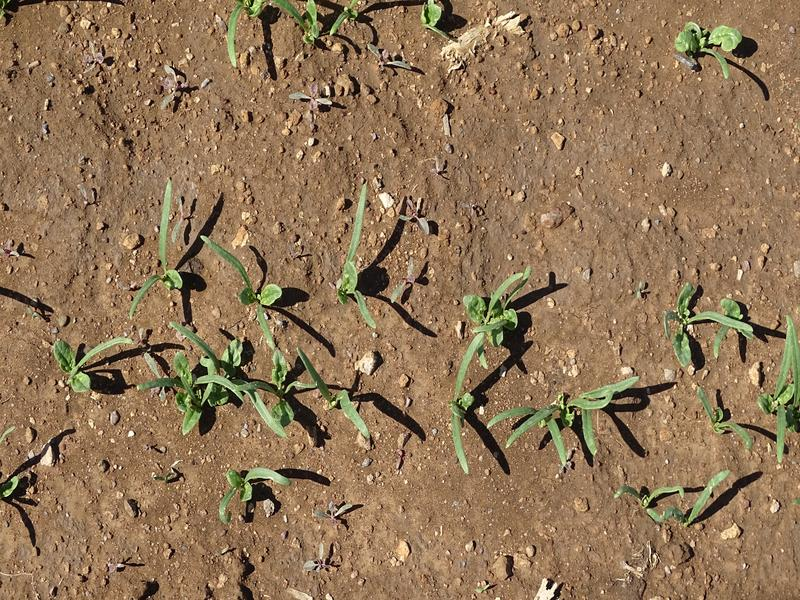Espinaca: (137, 321, 369, 444), (661, 296, 800, 449), (436, 267, 532, 472), (125, 183, 188, 315), (220, 1, 448, 35), (619, 465, 744, 523), (200, 234, 276, 316), (49, 327, 133, 396), (545, 377, 614, 458), (669, 13, 745, 77), (341, 193, 376, 317), (217, 461, 292, 518)
